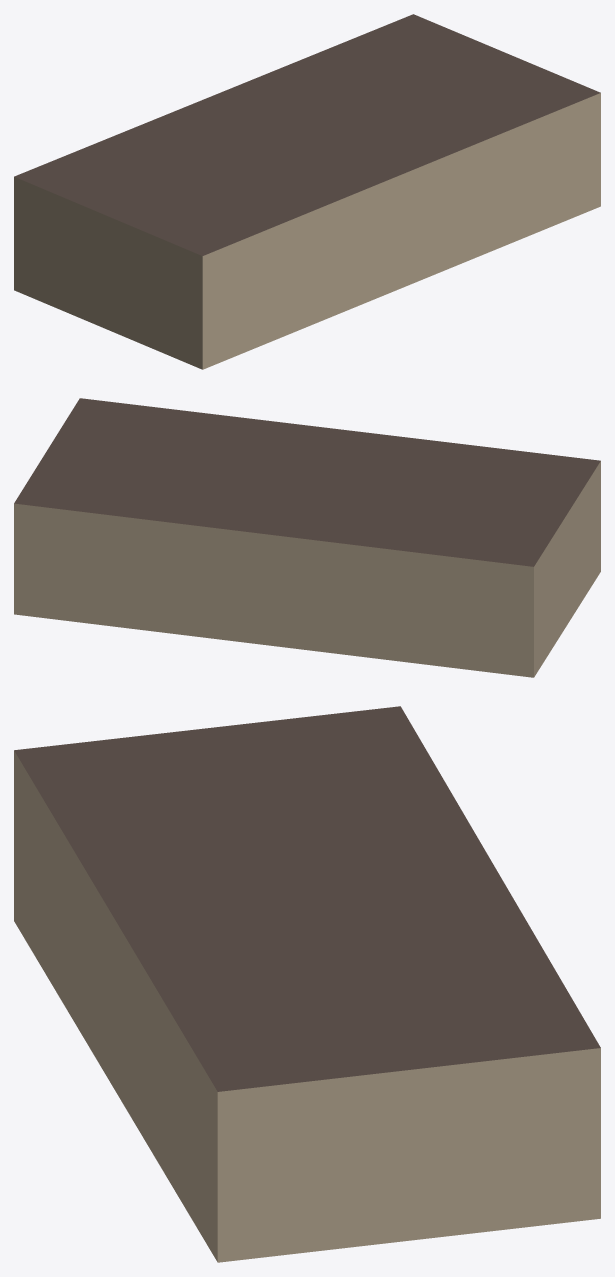
The picture shows the model from 3 angles, top to bottom: view 1: azimuth 30°, elevation 25°; view 2: azimuth 150°, elevation 25°; view 3: azimuth 270°, elevation 25°; orthographic projection. The views are drawn at different scales.
Visible parts, largest first — view 1: HP-w1196827505; view 2: HP-w1196827505; view 3: HP-w1196827505.
Part boxes in pixels (x1,y1,x2,y2): HP-w1196827505: [14, 14, 600, 369]; HP-w1196827505: [14, 398, 600, 677]; HP-w1196827505: [14, 706, 600, 1262].
Bounding box in the file's own units: 43.6 × 9 × 28.04.
